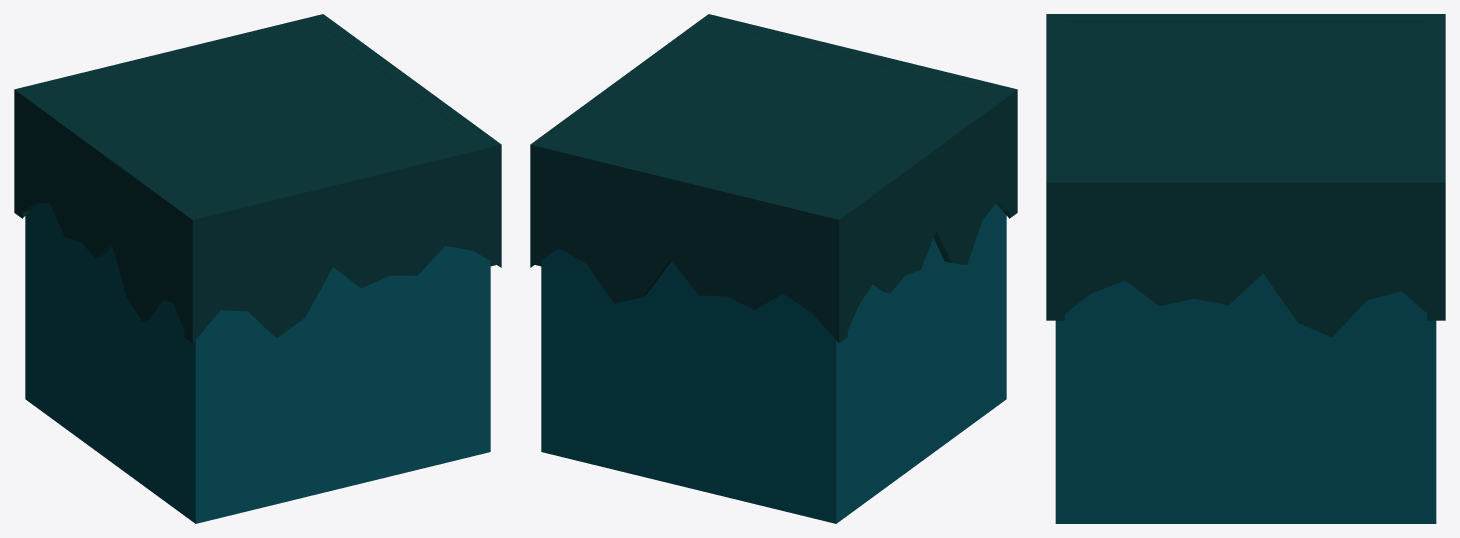
File: Biom_Ruinen_Grasblock.fbx
3 views of the same model, side by side, from view 1: azimuth 30°, elevation 25°; view 2: azimuth 150°, elevation 25°; view 3: azimuth 270°, elevation 25° (orthographic). The views are drawn at different scales.
Parts seen in each view (by area): view 1: Block.004, Gras.003; view 2: Block.004, Gras.003; view 3: Block.004, Gras.003.
Boxes of the visible parts, x1,y1,x2,y2 form: Block.004: (25, 23, 490, 523); Gras.003: (14, 14, 501, 343); Block.004: (541, 23, 1006, 523); Gras.003: (530, 14, 1017, 343); Block.004: (1055, 22, 1436, 523); Gras.003: (1046, 14, 1445, 337).
Bounding box in the file's own units: 105 × 100 × 105.
